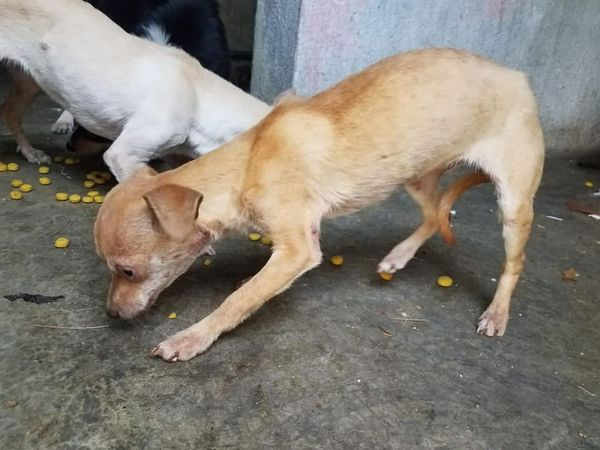dog: (84, 39, 565, 372)
